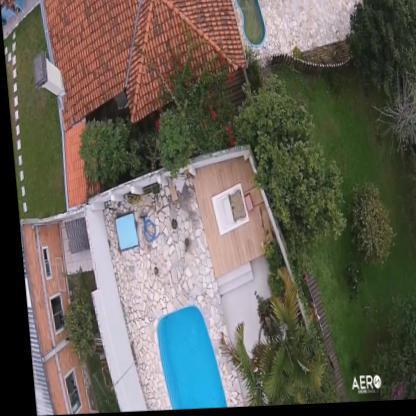agua: (236, 0, 266, 48)
